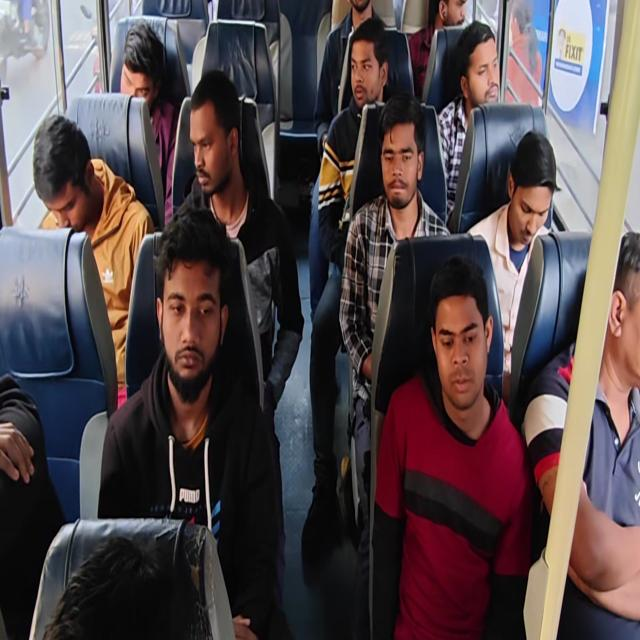person: (2, 1, 638, 638), (97, 206, 283, 638), (172, 69, 304, 569), (370, 254, 533, 638), (338, 91, 452, 633), (302, 16, 391, 553), (521, 229, 639, 629), (32, 113, 154, 409), (466, 129, 561, 402), (317, 17, 390, 271), (42, 530, 212, 639), (0, 371, 65, 638), (436, 20, 500, 225), (119, 21, 179, 227), (314, 0, 385, 160), (408, 0, 467, 101), (506, 0, 542, 106)
